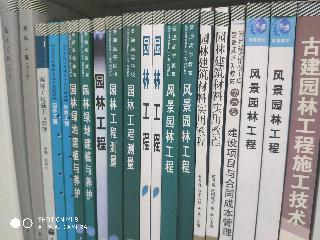book-spine: (273, 0, 320, 240), (254, 1, 295, 240), (232, 2, 270, 240), (0, 1, 33, 238), (19, 1, 46, 238), (220, 6, 244, 239), (191, 8, 213, 239), (176, 10, 198, 239), (206, 9, 227, 239), (160, 11, 181, 239), (35, 25, 54, 239), (48, 24, 66, 239), (79, 20, 96, 239), (124, 14, 140, 238), (106, 17, 122, 239), (70, 21, 84, 239), (139, 14, 152, 239), (94, 19, 107, 239), (61, 23, 74, 238), (150, 11, 162, 239)
